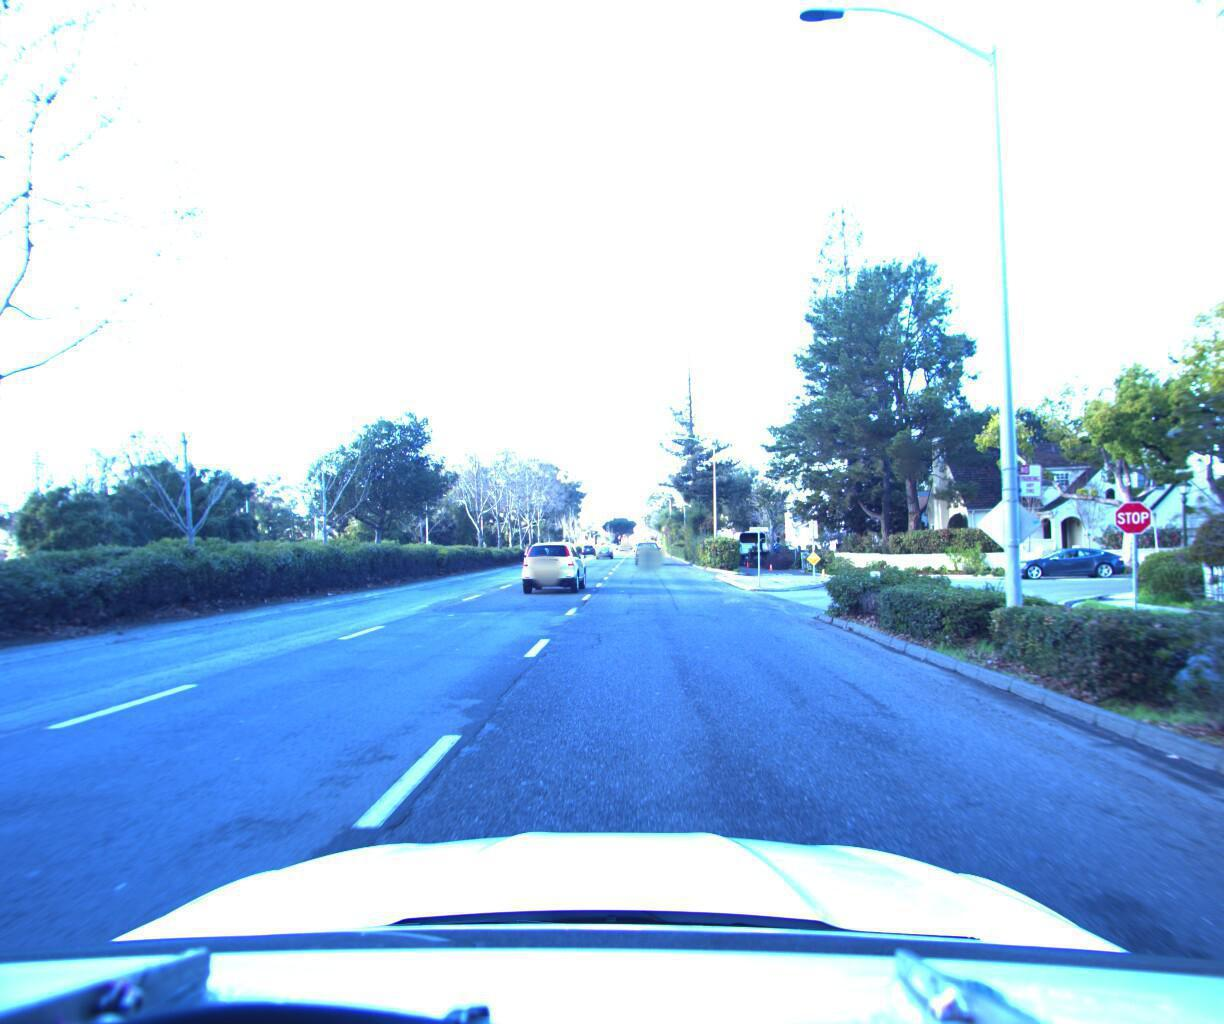car: (995, 537, 1118, 575), (514, 532, 587, 591), (630, 535, 663, 562), (594, 539, 614, 554)
other_vehicle: (736, 529, 778, 563)
truck: (724, 522, 770, 561)
